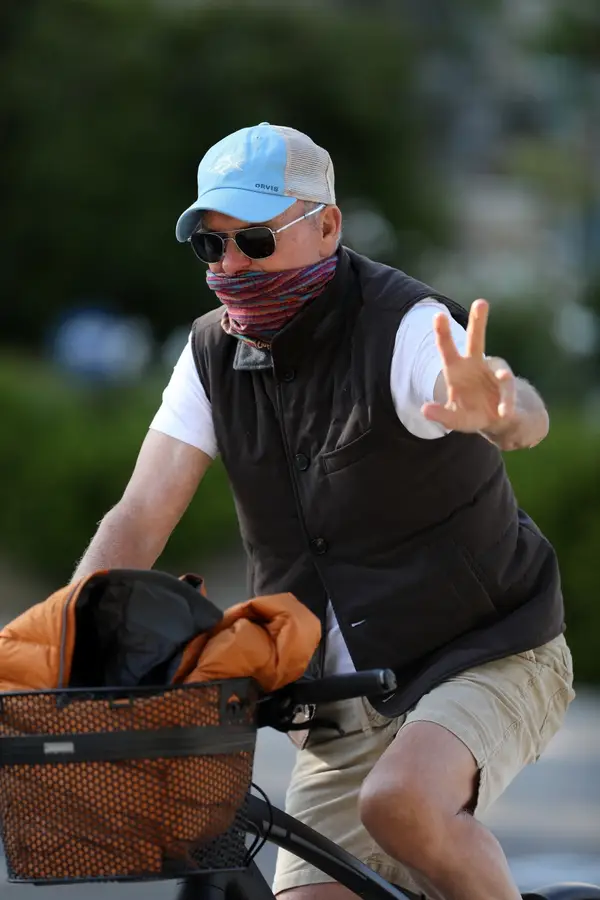mask_weared_incorrect: (175, 173, 352, 350)
